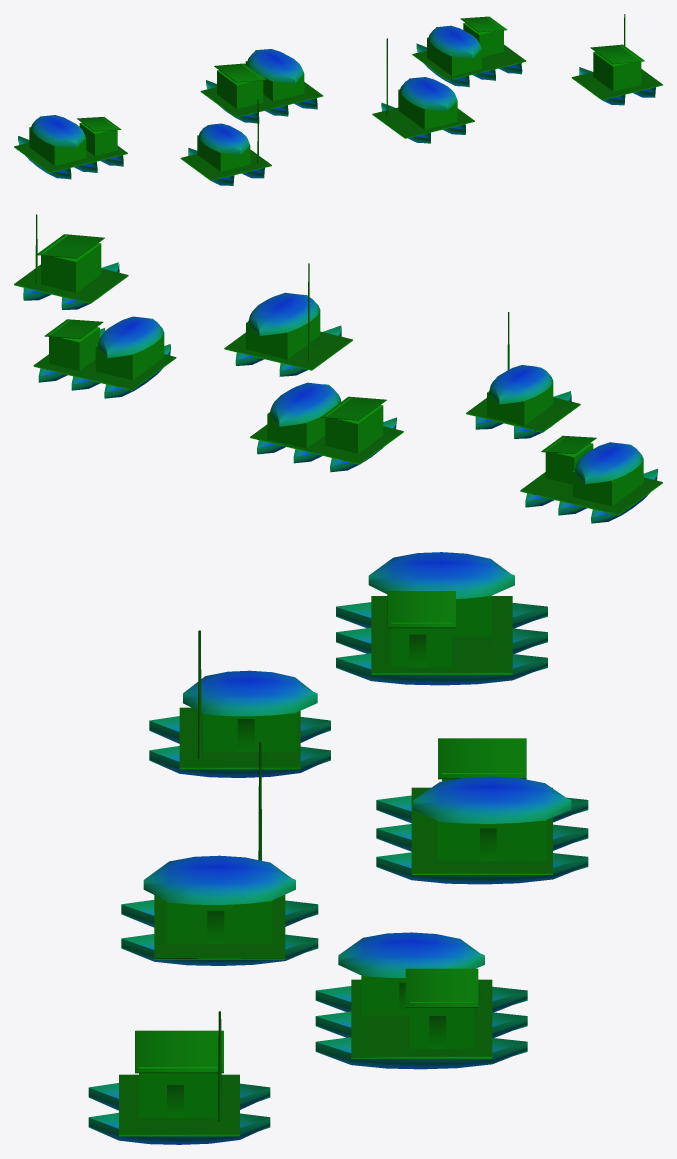
Rendered from town_far.glb.
3 renders of one model, top to bottom at view 1: azimuth 30°, elevation 25°; view 2: azimuth 150°, elevation 25°; view 3: azimuth 270°, elevation 25°, orthographic. The views are drawn at different scales.
Visible parts, largest first — view 1: town_far; view 2: town_far; view 3: town_far.
Part boxes in pixels (x1,y1,x2,y2): town_far: (14, 14, 662, 185); town_far: (14, 214, 662, 523); town_far: (88, 552, 588, 1144).
Size of what is drawn, in the model's own units: 62.99 by 9.8 by 24.75.
